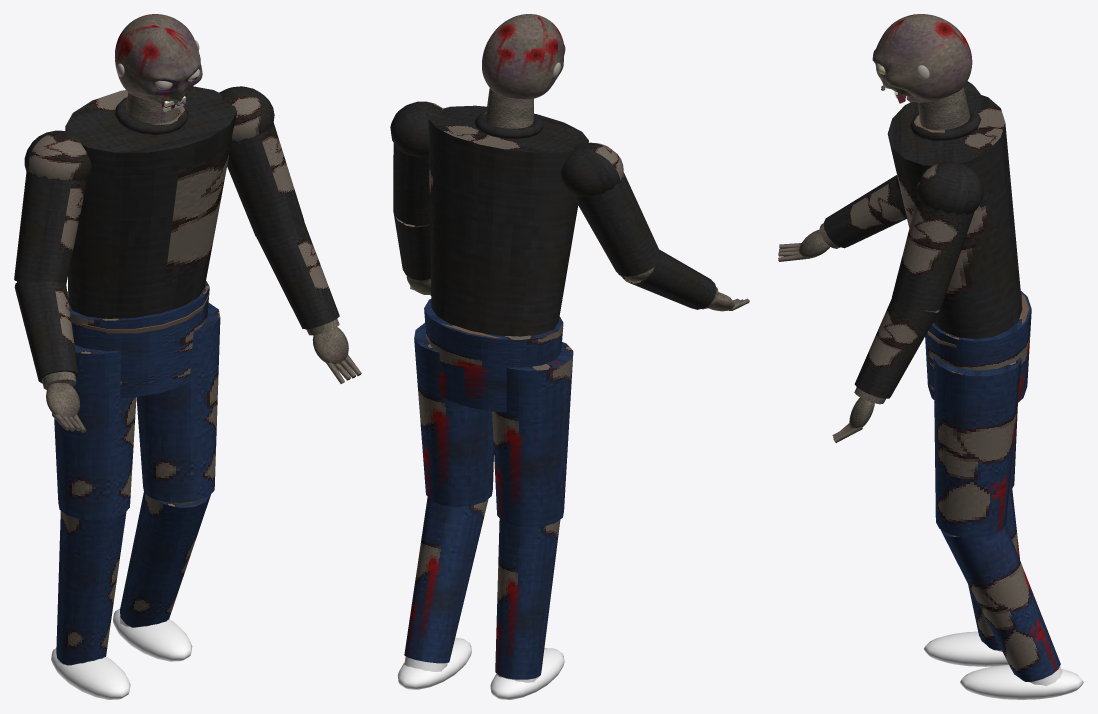
The model's file is Zombie_030.glb.
The picture shows the model from 3 angles, left to right: view 1: azimuth 30°, elevation 25°; view 2: azimuth 150°, elevation 25°; view 3: azimuth 270°, elevation 25°; orthographic projection. The views are drawn at different scales.
Parts seen in each view (by area): view 1: Zombie_030, object 18, object 12, object 4, object 13, object 5; view 2: Zombie_030, object 18, object 4, object 12; view 3: Zombie_030, object 18, object 12, object 4, object 5, object 13.
Boxes of the visible parts, box(x1,y1,x2,y2) form: Zombie_030: box(14, 86, 304, 699); object 18: box(115, 14, 202, 104); object 12: box(256, 223, 339, 329); object 4: box(14, 281, 78, 383); object 13: box(312, 327, 348, 364); object 5: box(46, 383, 80, 418); Zombie_030: box(390, 88, 661, 699); object 18: box(482, 14, 565, 99); object 4: box(621, 249, 716, 309); object 12: box(393, 213, 430, 280); Zombie_030: box(887, 81, 1083, 699); object 18: box(872, 14, 972, 103); object 12: box(854, 298, 939, 398); object 4: box(823, 175, 906, 248); object 5: box(799, 229, 830, 258); object 13: box(849, 397, 874, 428).
Bounding box in the file's own units: 0.8479 × 1.71 × 0.7159.
Materials: 15 (5 with a texture image).
